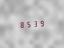eight: (18, 20, 24, 28)
five: (25, 20, 31, 28)
nine: (39, 19, 45, 27)
three: (32, 19, 38, 27)
